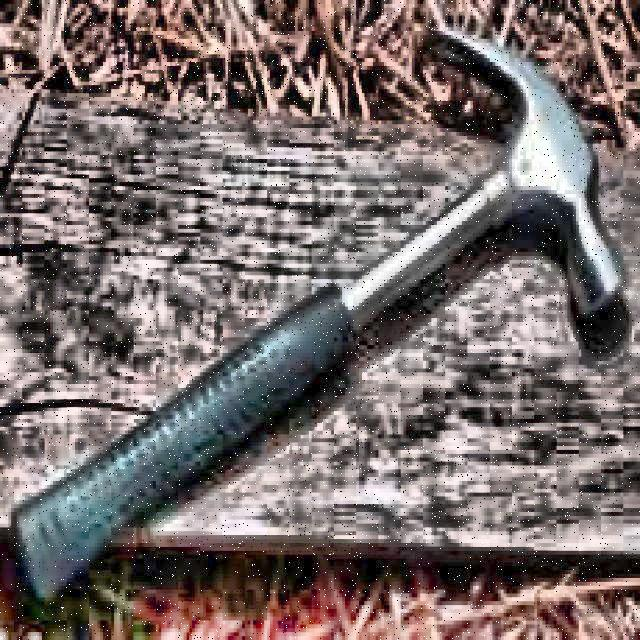hammer: (13, 35, 631, 600)
